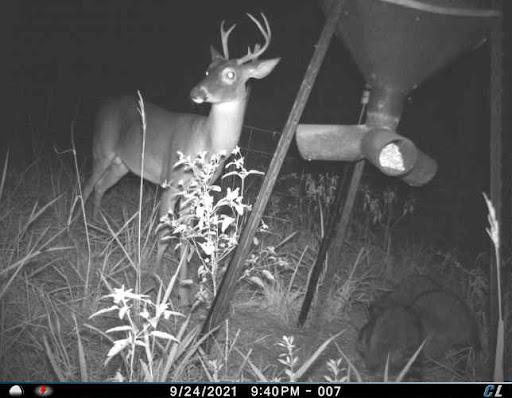Deer: (67, 9, 283, 316)
